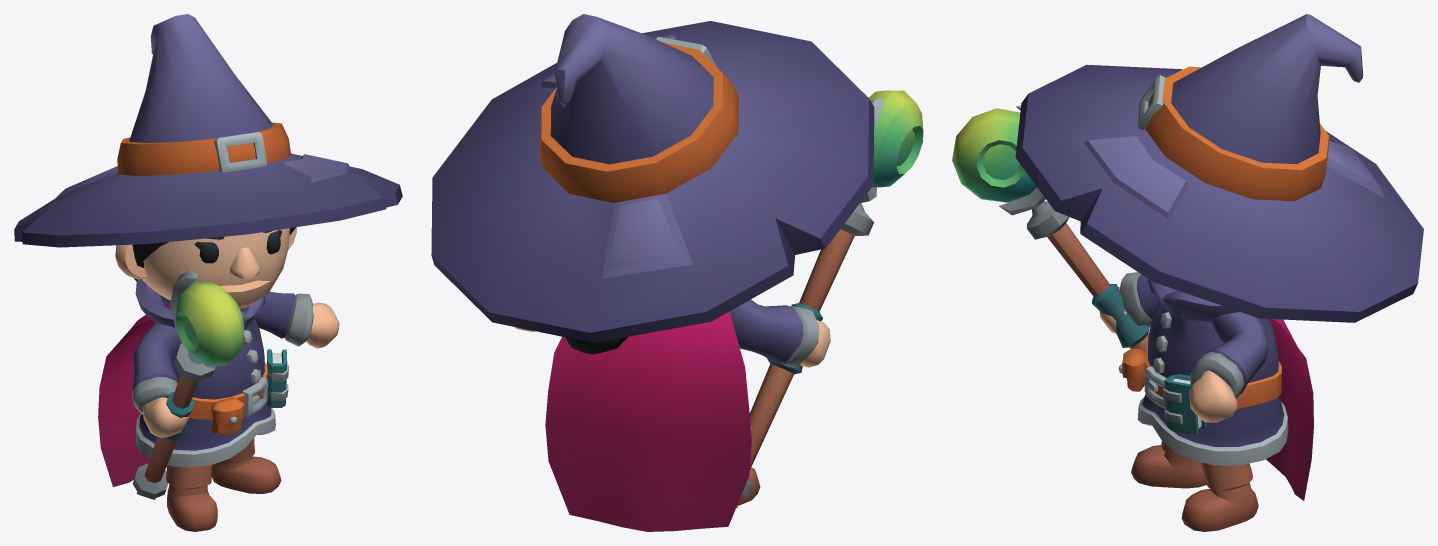
The model's file is MageLicensed.fbx.
3 views of the same model, side by side, from view 1: azimuth 30°, elevation 25°; view 2: azimuth 150°, elevation 25°; view 3: azimuth 270°, elevation 25° (orthographic). The views are drawn at different scales.
Parts seen in each view (by area): view 1: MageLicensed; view 2: MageLicensed; view 3: MageLicensed.
Boxes of the visible parts, x1=… form: MageLicensed: x1=14, y1=14, x2=402, y2=531; MageLicensed: x1=431, y1=14, x2=923, y2=531; MageLicensed: x1=952, y1=14, x2=1423, y2=531.
Bounding box in the file's own units: 2.1 × 2.67 × 2.33.
